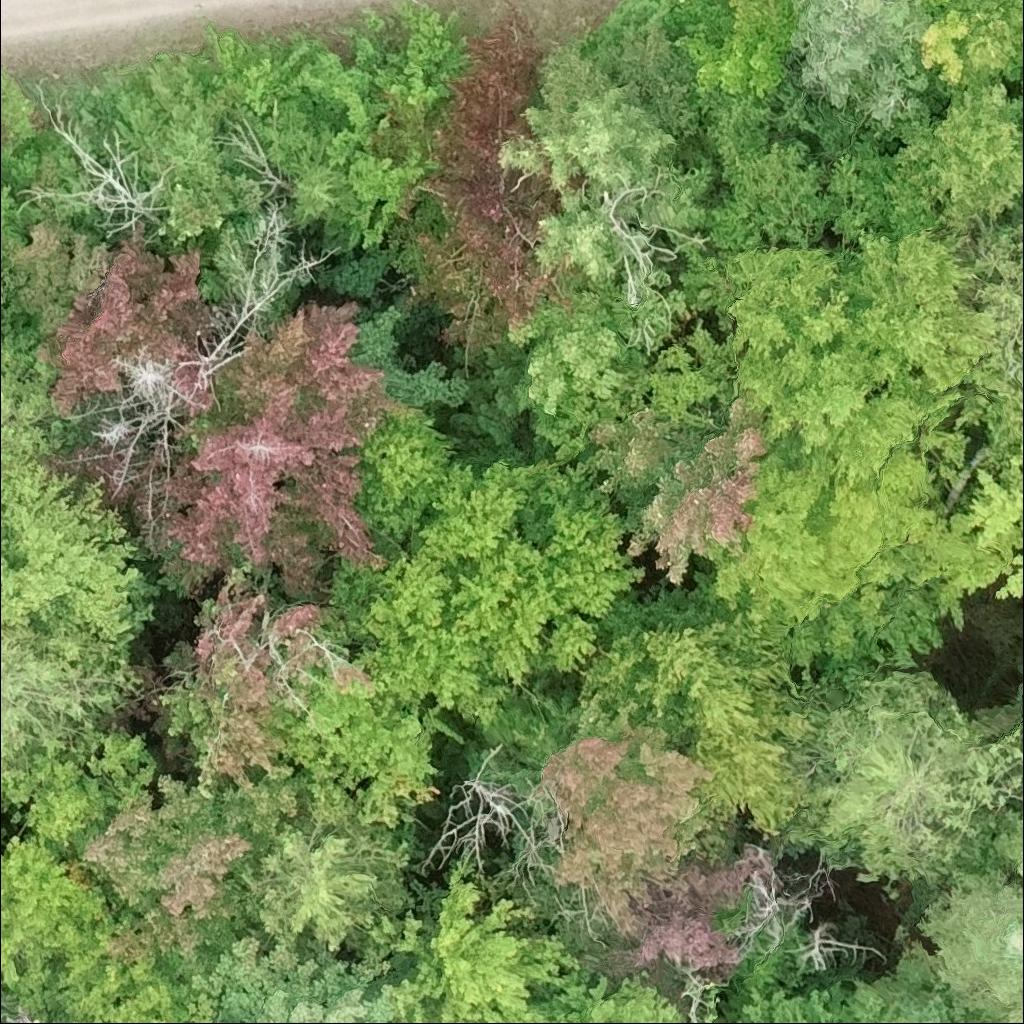crown: (133, 299, 435, 606), (331, 445, 644, 727), (695, 437, 1016, 676), (722, 224, 1002, 485), (577, 587, 838, 836), (396, 4, 569, 350), (782, 670, 1023, 899), (497, 44, 718, 293), (150, 562, 383, 795), (83, 772, 310, 989), (539, 709, 723, 938), (355, 857, 584, 1023), (35, 225, 217, 419), (0, 456, 159, 675), (278, 675, 462, 834), (241, 820, 416, 961), (510, 290, 651, 462), (878, 80, 1023, 238), (186, 930, 397, 1023), (944, 215, 1023, 463), (0, 624, 128, 777), (787, 0, 930, 136), (906, 870, 1023, 1023), (0, 833, 115, 988), (3, 940, 194, 1023), (354, 415, 471, 547), (675, 0, 794, 101), (970, 443, 1023, 609), (540, 966, 687, 1023), (868, 951, 984, 1023), (0, 332, 57, 468), (727, 978, 882, 1023), (985, 802, 1023, 886), (0, 232, 21, 328), (1015, 207, 1023, 216), (1022, 75, 1023, 88)
